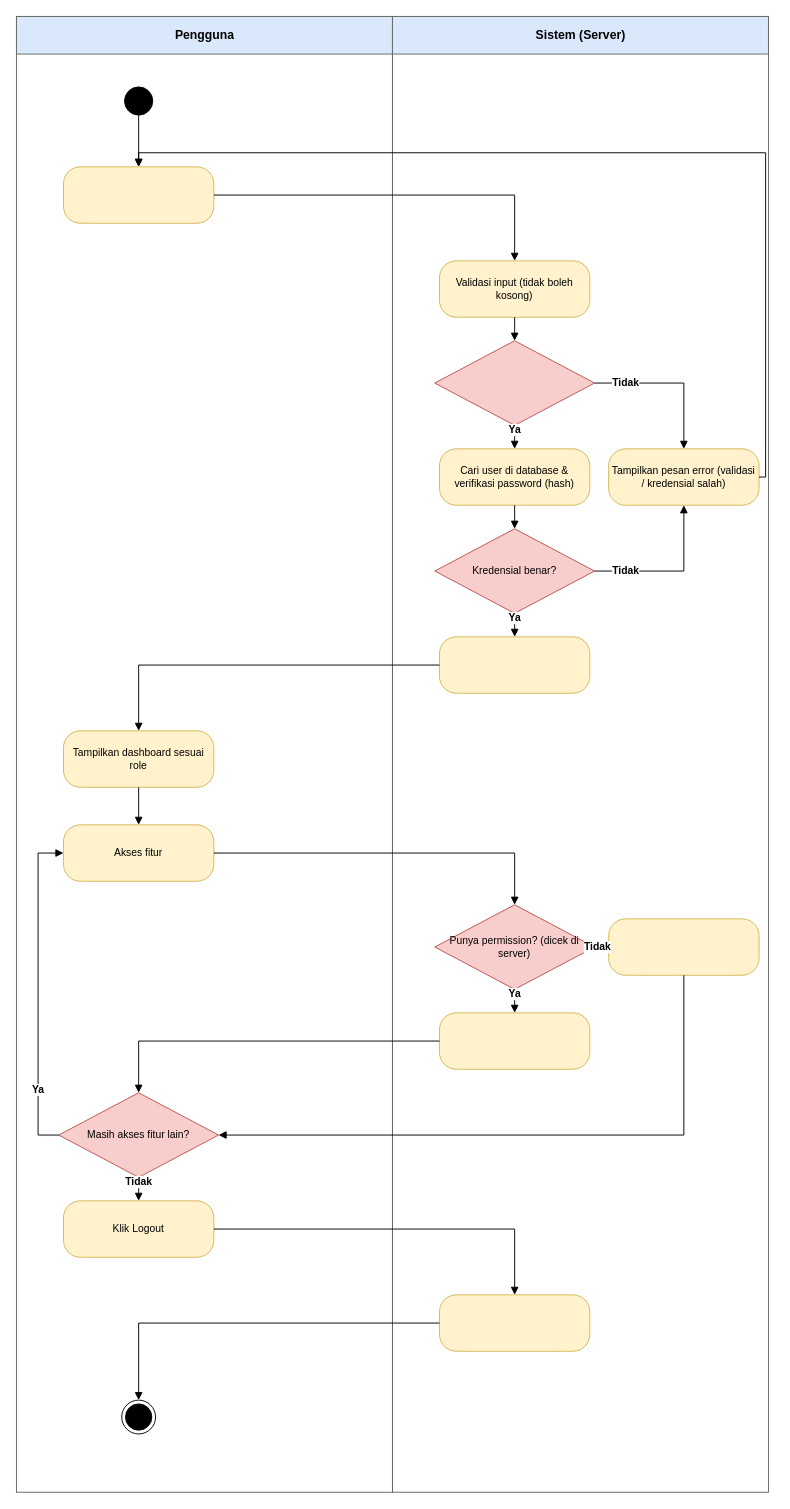
The diagram is 790 pixels wide and 1509 high, and some of its shapes have lost their labels. Here are the shapes that lost their labels. From the top down, the box of each, then its label:
(63, 166, 214, 223): Isi username & password
(434, 340, 595, 425): Input valid?
(439, 636, 590, 693): Ambil role & permission, buat sesi login
(608, 918, 759, 975): Tolak akses (403)
(439, 1012, 590, 1069): Proses permintaan & kirim hasil
(439, 1294, 590, 1351): Akhiri sesi login
